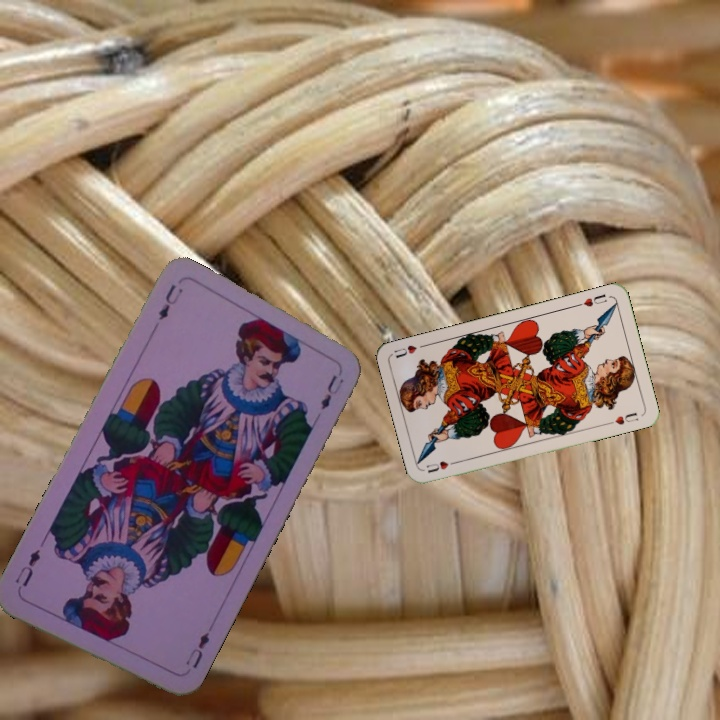EU: (181, 628, 213, 671), (154, 280, 186, 323)
HU: (572, 290, 609, 309), (422, 457, 461, 475)
